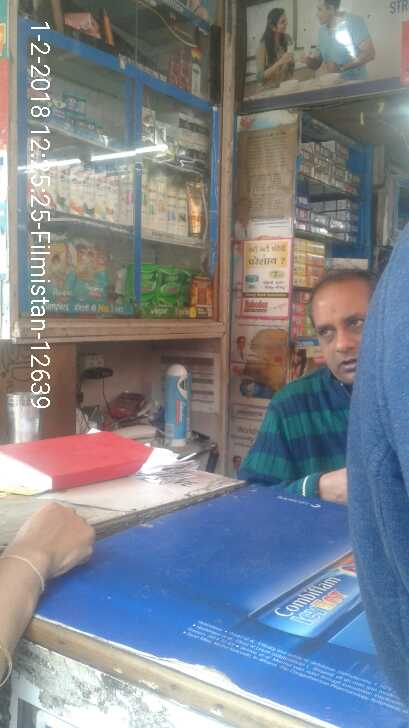vicks: (34, 86, 103, 143)
